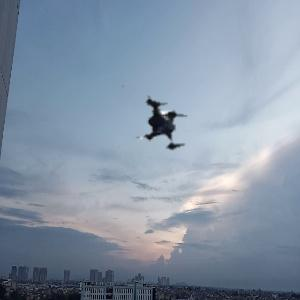drone: (110, 81, 200, 171)
